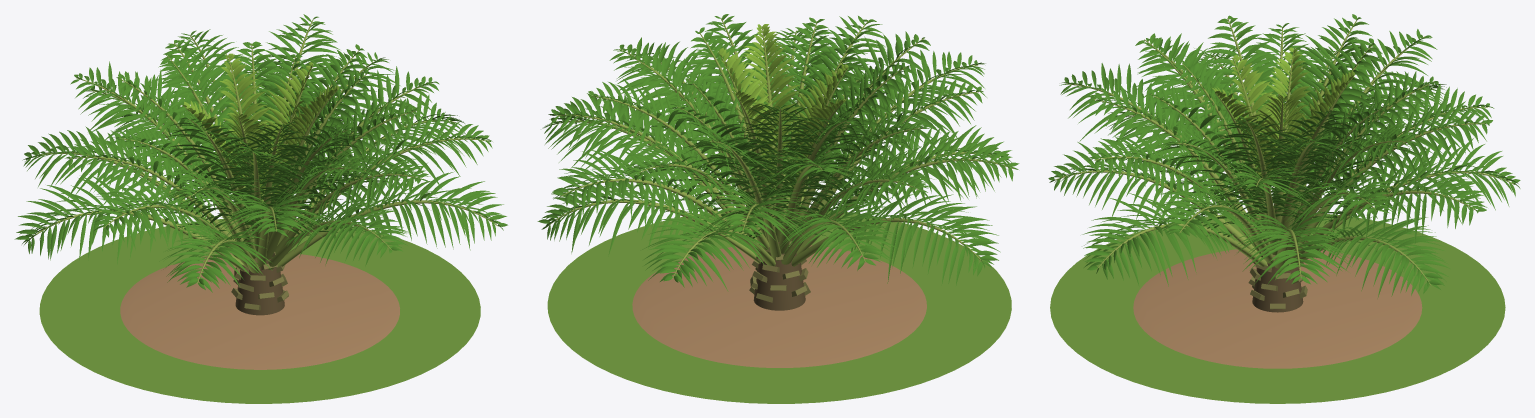
File: kelapa-sawit-tbm3.glb
3 renders of one model, left to right at view 1: azimuth 30°, elevation 25°; view 2: azimuth 150°, elevation 25°; view 3: azimuth 270°, elevation 25°, orthographic. The views are drawn at different scales.
Visible parts, largest first — view 1: rumput, piringan, anak_daun_38, anak_daun_39, anak_daun_36, anak_daun_33, anak_daun_31, anak_daun_30, anak_daun_34, anak_daun_26, anak_daun_21, anak_daun_25 (+38 smaller); view 2: rumput, piringan, anak_daun_39, anak_daun_37, anak_daun_32, anak_daun_34, anak_daun_40, anak_daun_31, anak_daun_27, anak_daun_23, anak_daun_28, anak_daun_26 (+45 smaller); view 3: rumput, piringan, anak_daun_38, anak_daun_40, anak_daun_35, anak_daun_32, anak_daun_24, anak_daun_25, anak_daun_30, anak_daun_33, anak_daun_37, anak_daun_28 (+40 smaller).
Boxes of the visible parts, box(x1,y1,x2,y2) form: rumput: box(39, 219, 480, 403); piringan: box(120, 253, 399, 369); anak_daun_38: box(323, 163, 507, 250); anak_daun_39: box(14, 174, 196, 264); anak_daun_36: box(159, 220, 272, 292); anak_daun_33: box(285, 195, 410, 266); anak_daun_31: box(89, 173, 228, 249); anak_daun_30: box(319, 112, 492, 213); anak_daun_34: box(22, 125, 199, 217); anak_daun_26: box(65, 130, 213, 219); anak_daun_21: box(70, 61, 216, 195); anak_daun_25: box(294, 143, 430, 227); rumput: box(547, 210, 1011, 403); piringan: box(632, 245, 926, 367); anak_daun_39: box(831, 190, 1000, 285); anak_daun_37: box(642, 209, 767, 291); anak_daun_32: box(552, 146, 726, 230); anak_daun_34: box(780, 197, 900, 270); anak_daun_40: box(537, 164, 709, 256); anak_daun_31: box(837, 125, 1019, 221); anak_daun_27: box(548, 89, 723, 199); anak_daun_23: box(824, 75, 983, 193); anak_daun_28: box(832, 50, 986, 178); anak_daun_26: box(806, 145, 934, 221); rumput: box(1050, 212, 1505, 403); piringan: box(1133, 249, 1422, 368); anak_daun_38: box(1082, 193, 1234, 286); anak_daun_40: box(1313, 216, 1449, 298); anak_daun_35: box(1235, 211, 1354, 284); anak_daun_32: box(1324, 153, 1487, 245); anak_daun_24: box(1328, 97, 1492, 205); anak_daun_25: box(1088, 125, 1235, 222); anak_daun_30: box(1154, 168, 1273, 246); anak_daun_33: box(1048, 136, 1217, 224); anak_daun_37: box(1343, 137, 1520, 223); anak_daun_28: box(1059, 63, 1226, 188).
Size of the model in its own units: 7.29 by 3.79 by 6.64.
